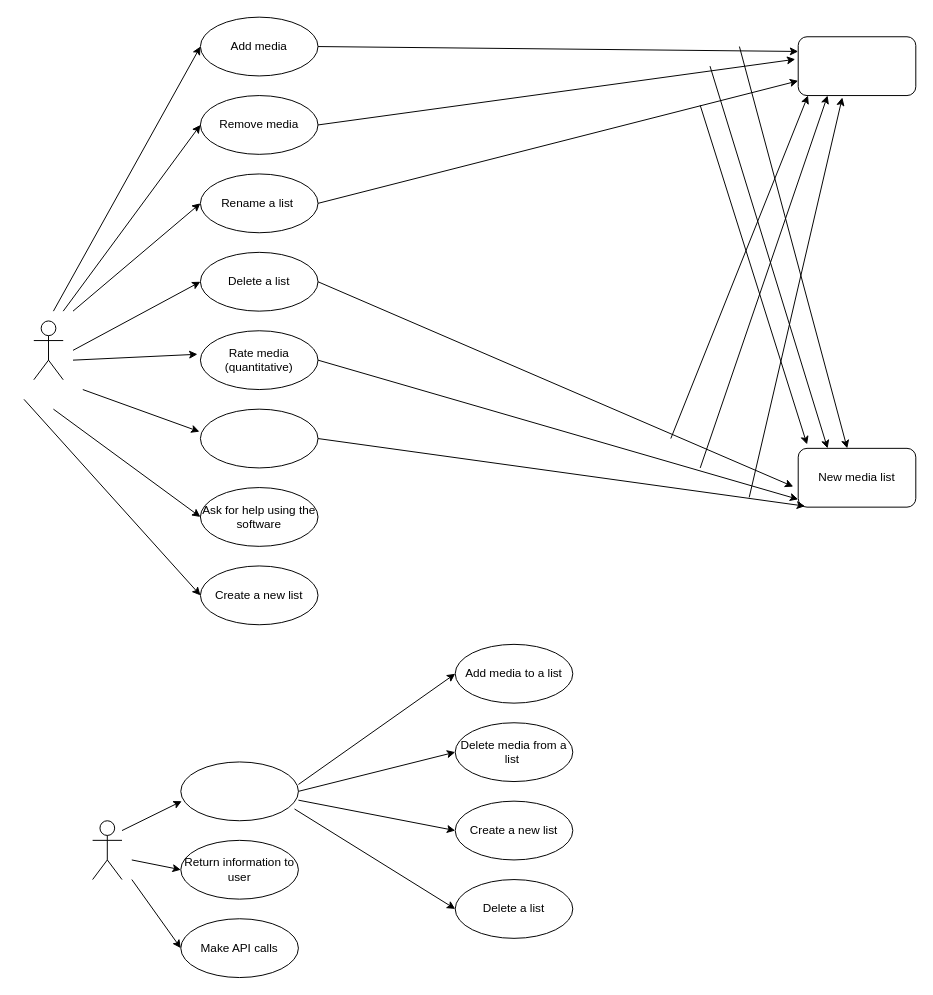
The diagram is 933 pixels wide and 995 high, and some of its shapes have lost their labels. The centre of each missing label's shape, as x and y in pixels:
"Alexa" goes at (107,850).
"Customer" goes at (48,350).
"Default media list" goes at (856,66).
"Manage lists" goes at (239,791).
"Review movie (qualitative)" goes at (258,438).
